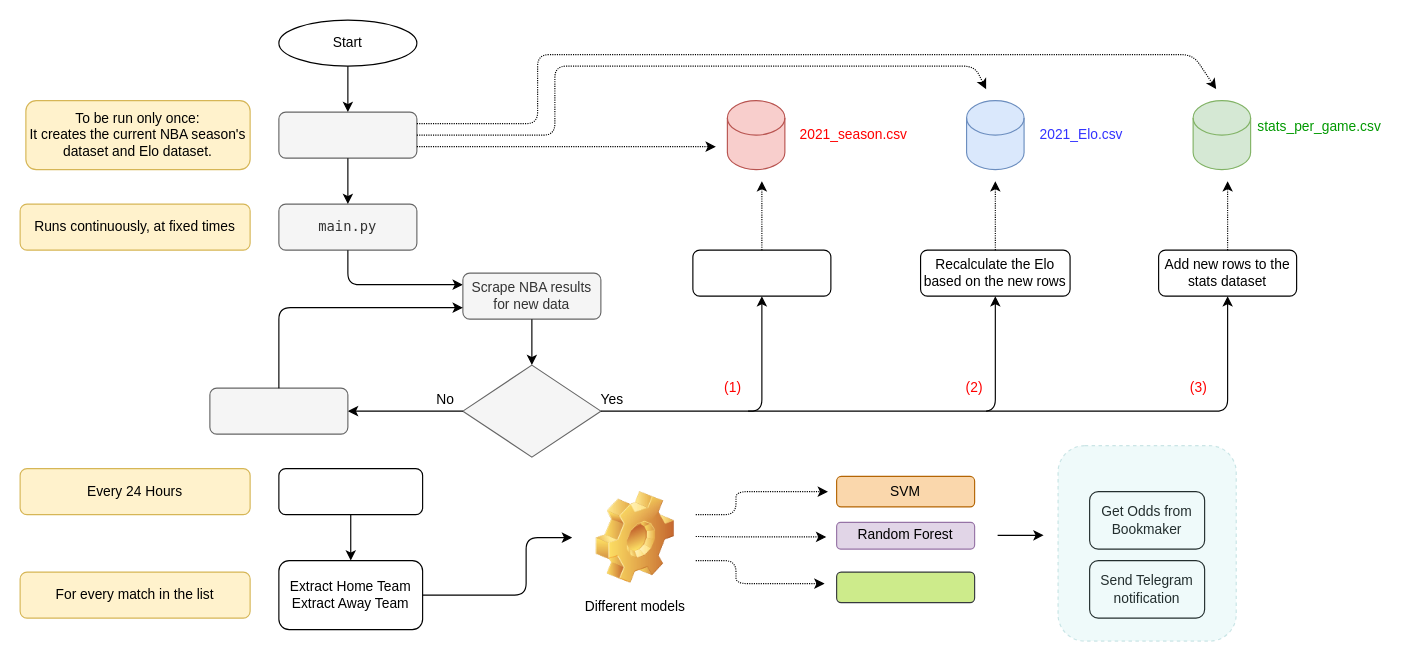
Image size: 1401x661. Some labels were removed from this diagram. Here are the shapes that lost their labels. From the top down, the centre of each, then its label:
At pixel 347 134: "Setup.py".
At pixel 761 272: "Add new rows to the season's dataset".
At pixel 278 410: "Wait N minutes".
At pixel 531 410: "New data?".
At pixel 350 491: "Get list of tomorrow's matches".
At pixel 1146 542: "- Optional -".
At pixel 905 587: "Elo".
